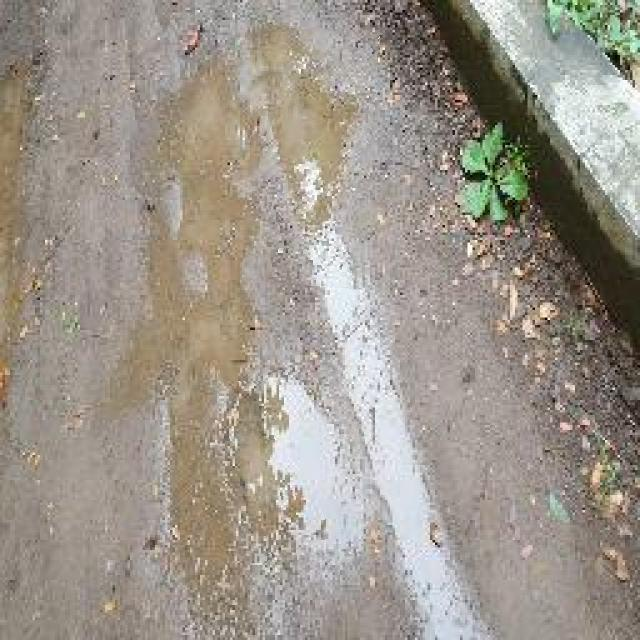puddle: (247, 27, 376, 289), (218, 373, 375, 564)
